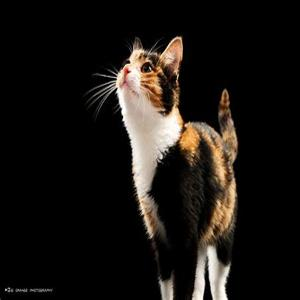cat: (117, 47, 238, 297)
